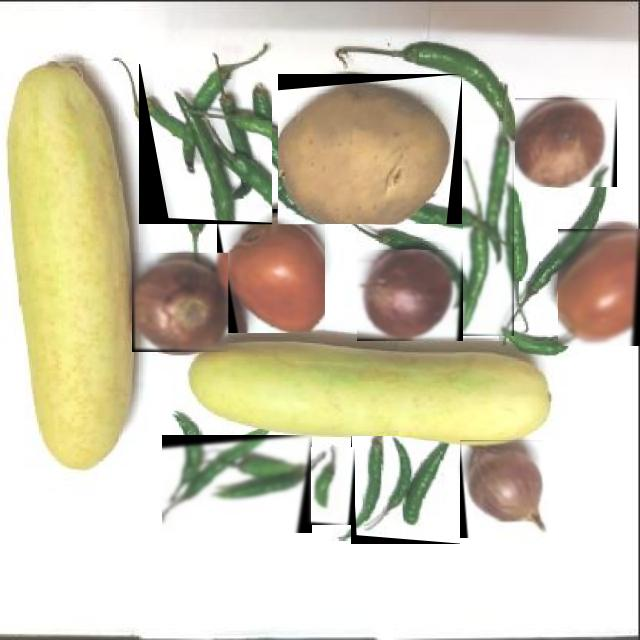Pepper: (139, 64, 272, 224), (162, 435, 312, 533), (351, 436, 460, 544), (463, 132, 514, 336), (311, 447, 355, 525)
onion: (357, 250, 463, 341), (132, 253, 228, 352), (515, 98, 617, 187), (460, 440, 548, 538)
potato: (278, 74, 462, 224)
tomato: (217, 209, 325, 333), (558, 229, 640, 346)
